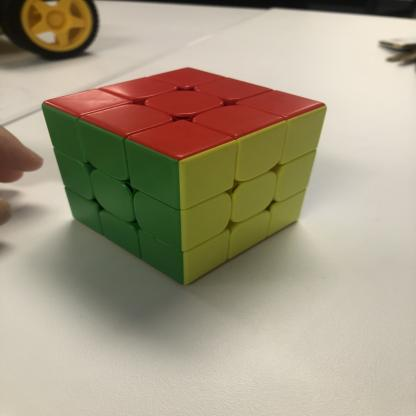SolvedCube: (36, 58, 330, 294)
